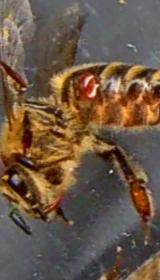varroa_mite: (70, 70, 105, 99)
